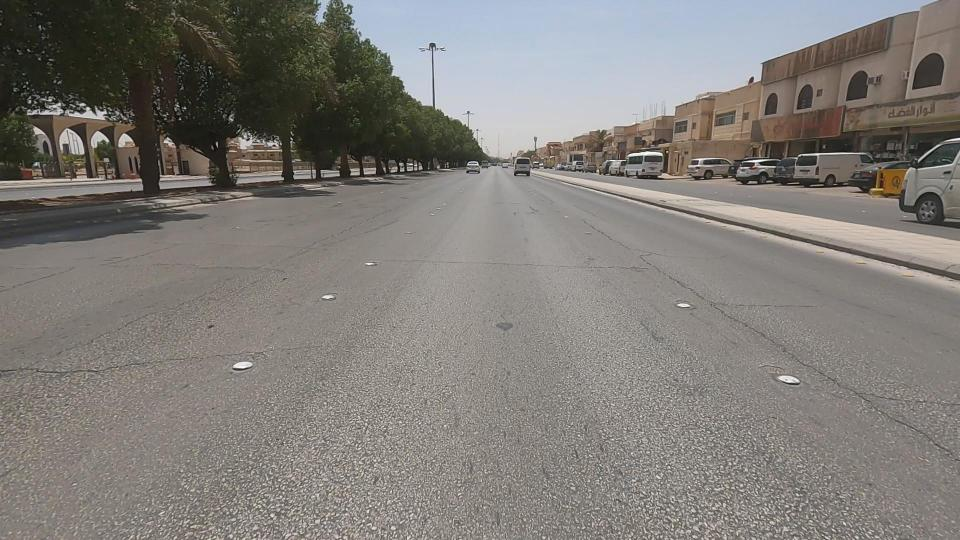BAD_BILLBOARD: (788, 91, 960, 144), (724, 101, 869, 160)
